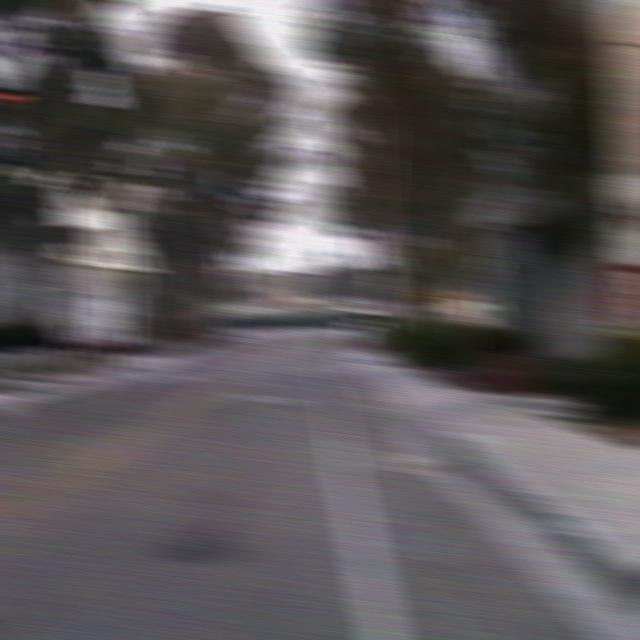pedestrianCrossing: (420, 274, 454, 317)
